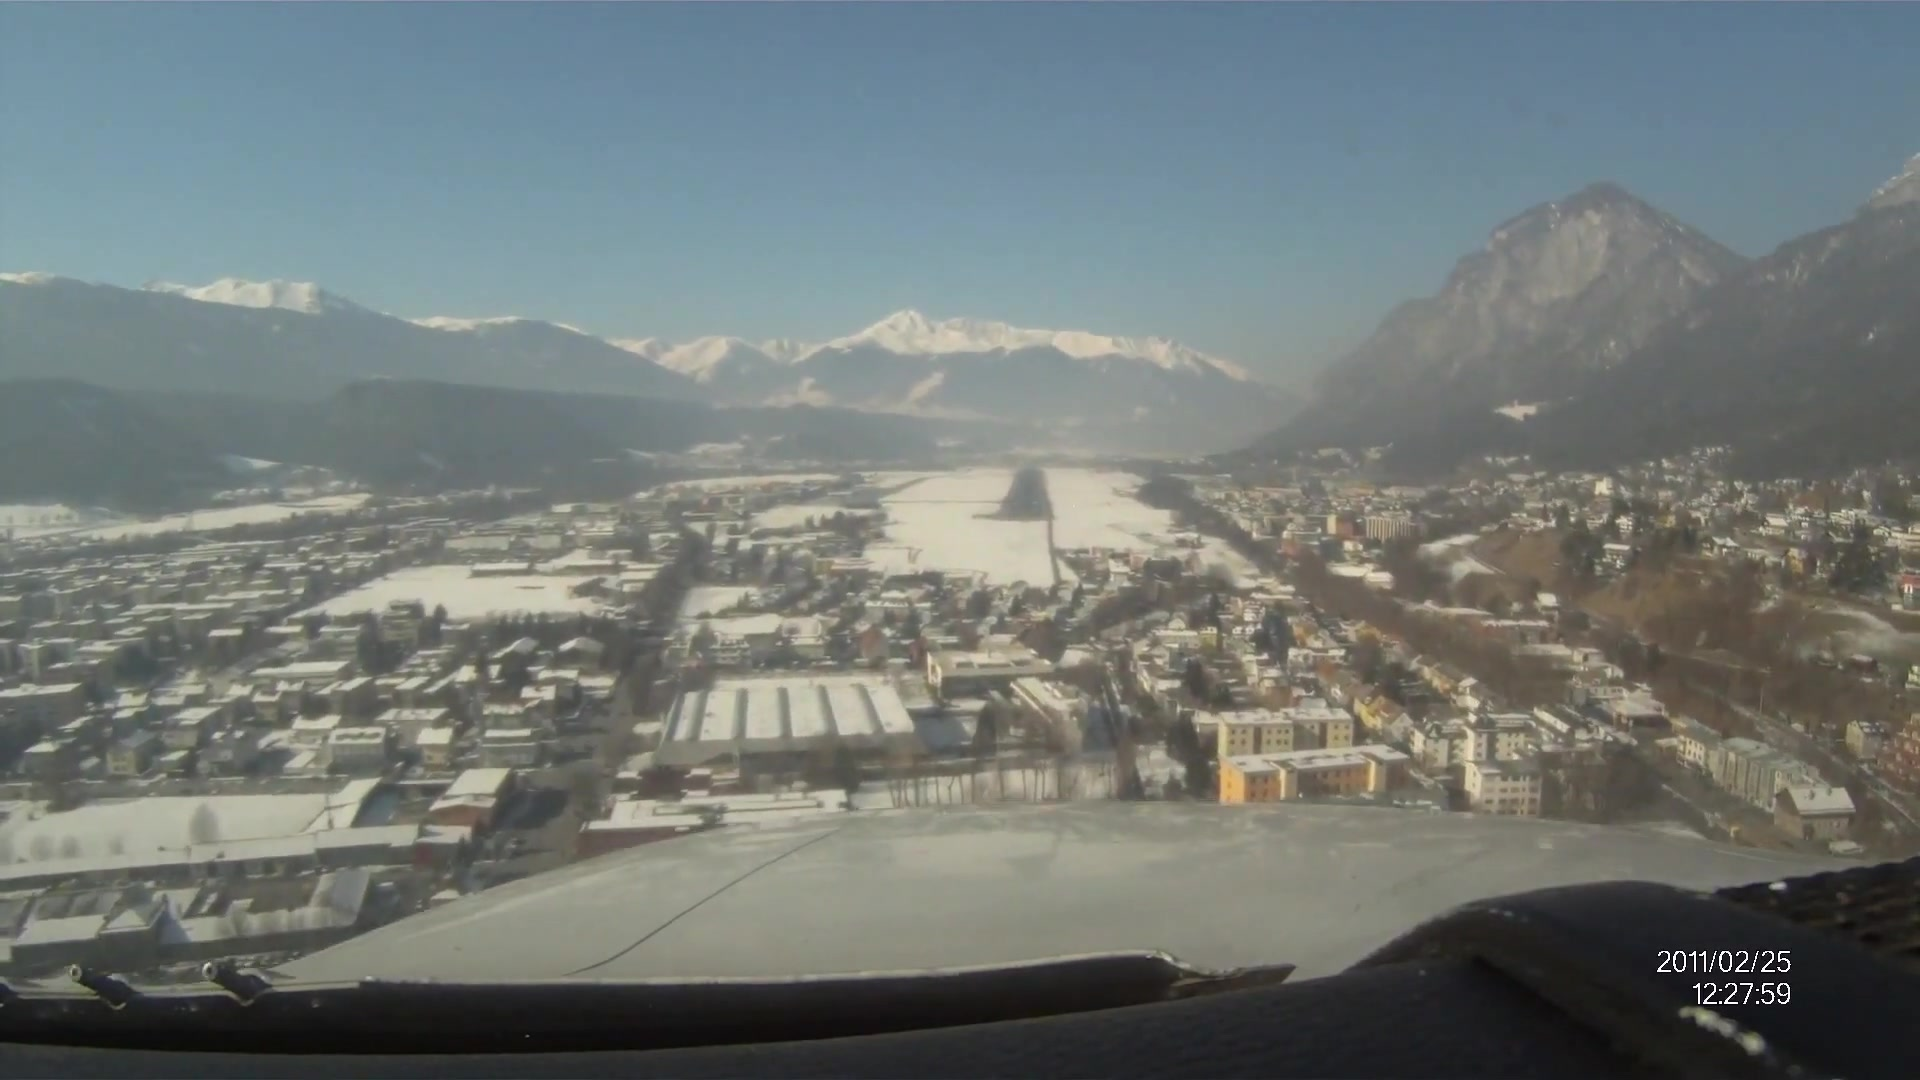runway: (1007, 462, 1047, 522)
